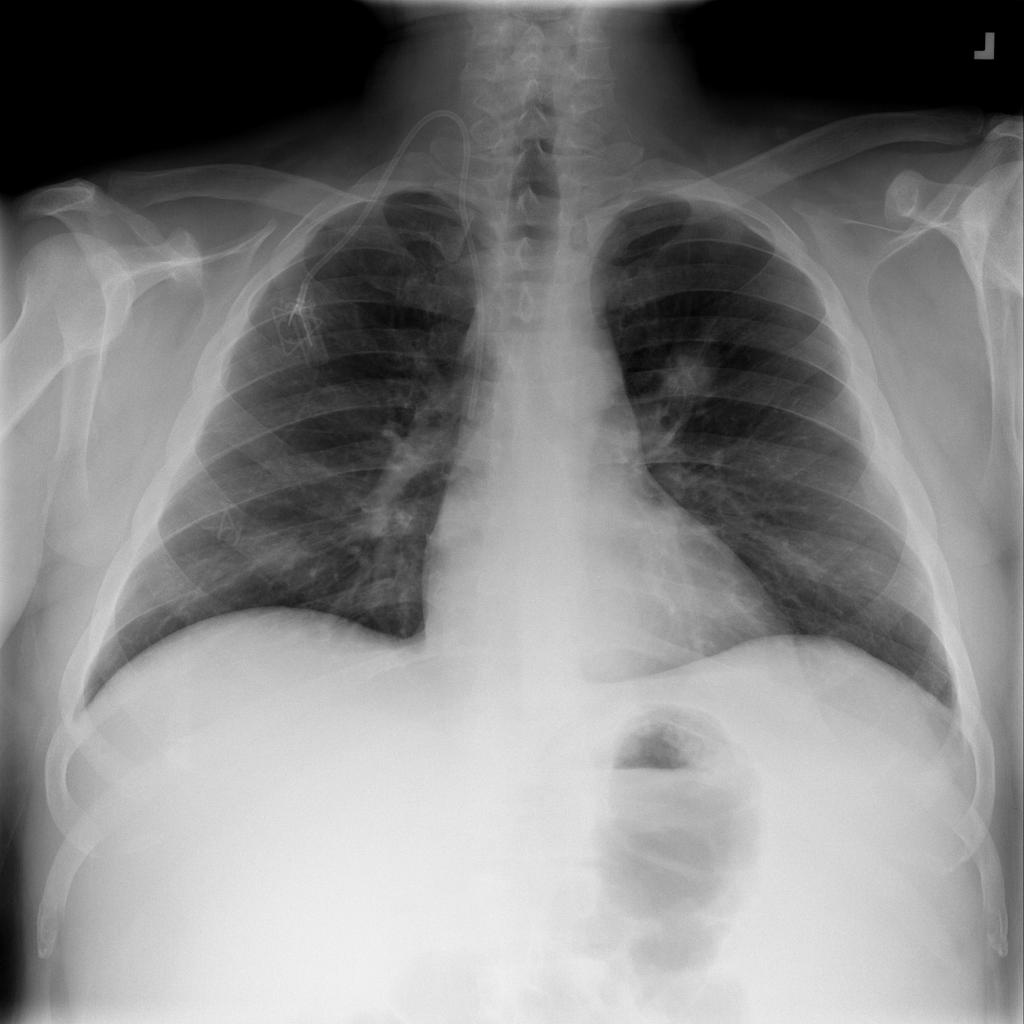nodule: (214, 508, 337, 600), (646, 337, 731, 412)
